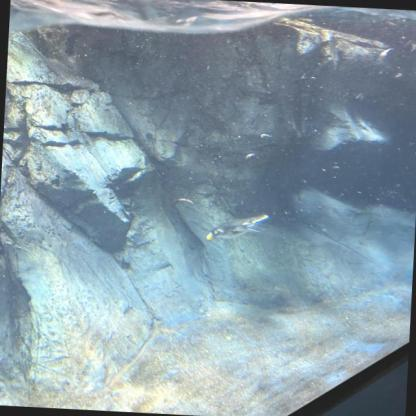puffin: (279, 19, 391, 69), (311, 100, 397, 157), (205, 210, 271, 246)
